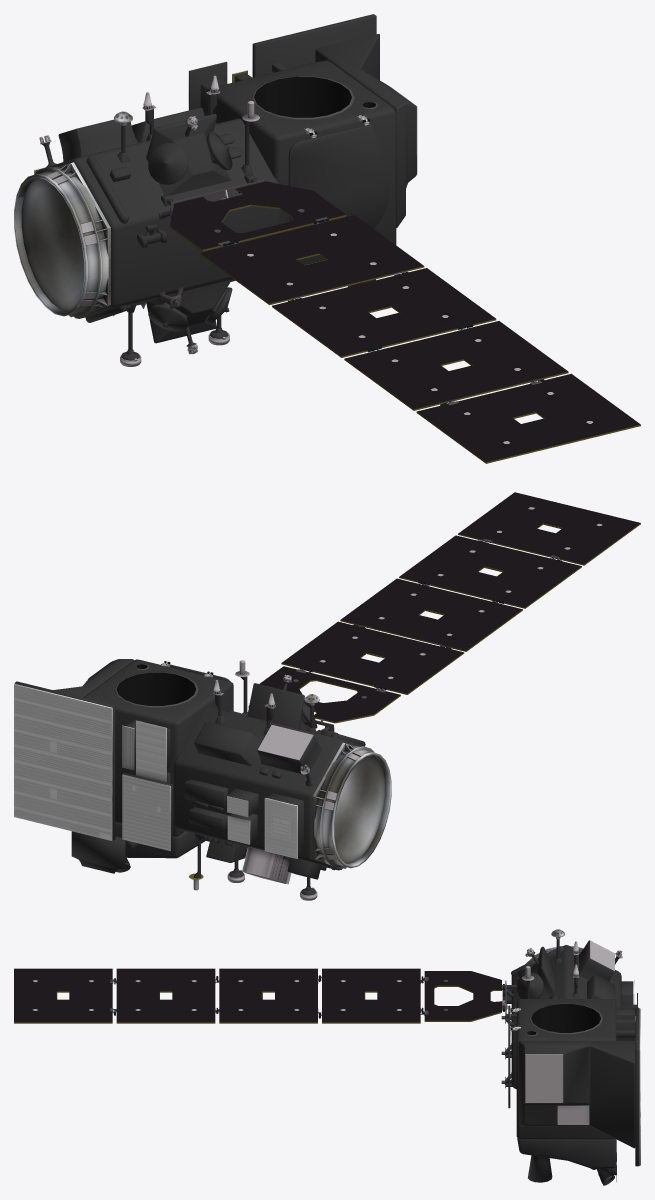
Rendered from ICESat2.fbx.
3 renders of one model, top to bottom at view 1: azimuth 30°, elevation 25°; view 2: azimuth 150°, elevation 25°; view 3: azimuth 270°, elevation 25°, orthographic. The views are drawn at different scales.
Visible parts, largest first — view 1: ICESat2; view 2: ICESat2; view 3: ICESat2.
Part boxes in pixels (x1,y1,x2,y2): ICESat2: (14, 14, 640, 463); ICESat2: (14, 492, 640, 900); ICESat2: (14, 929, 640, 1185).
Size of the model in its own units: 51.9 by 33.07 by 105.
Materials: 8 (1 with a texture image).
